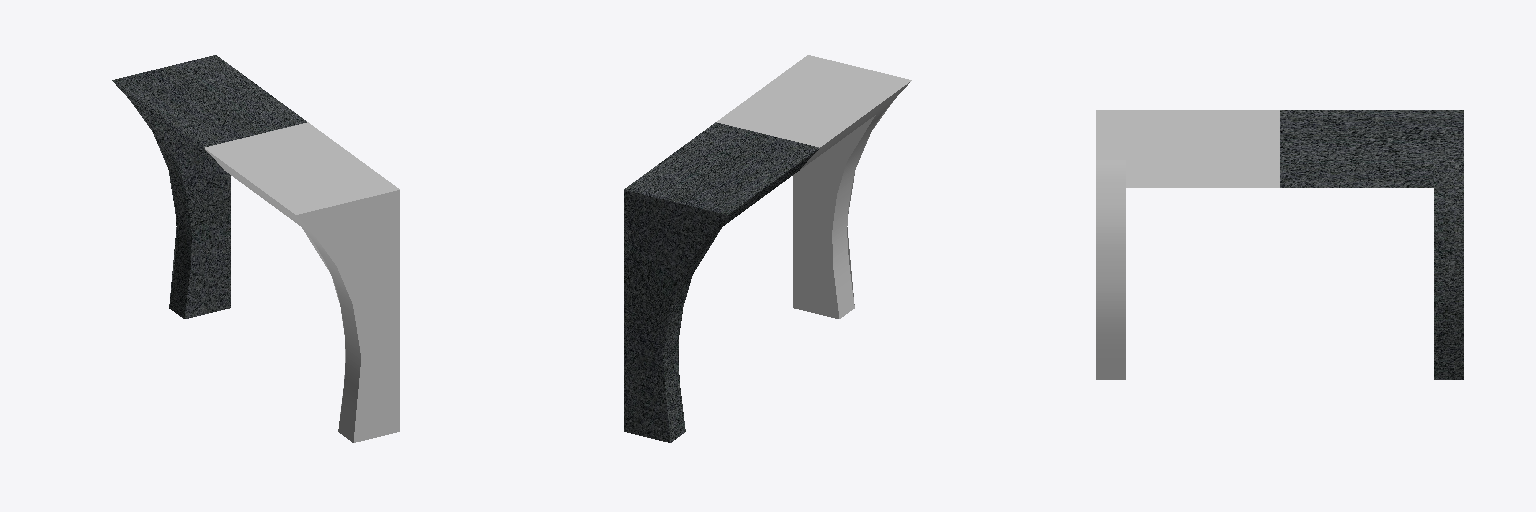
3 renders of one model, left to right at view 1: azimuth 30°, elevation 25°; view 2: azimuth 150°, elevation 25°; view 3: azimuth 270°, elevation 25°, orthographic.
Visible parts, largest first — view 1: Plane, Plane.001_Plane.003; view 2: Plane.001_Plane.003, Plane; view 3: Plane, Plane.001_Plane.003.
Boxes of the visible parts, <box> form: Plane: <box>205,122,399,442</box>; Plane.001_Plane.003: <box>112,55,306,318</box>; Plane.001_Plane.003: <box>624,122,818,442</box>; Plane: <box>717,55,911,318</box>; Plane: <box>1096,110,1279,379</box>; Plane.001_Plane.003: <box>1280,110,1463,379</box>.
Bounding box in the file's own units: 1.96 × 4.34 × 5.99.
2 materials, 1 textured.